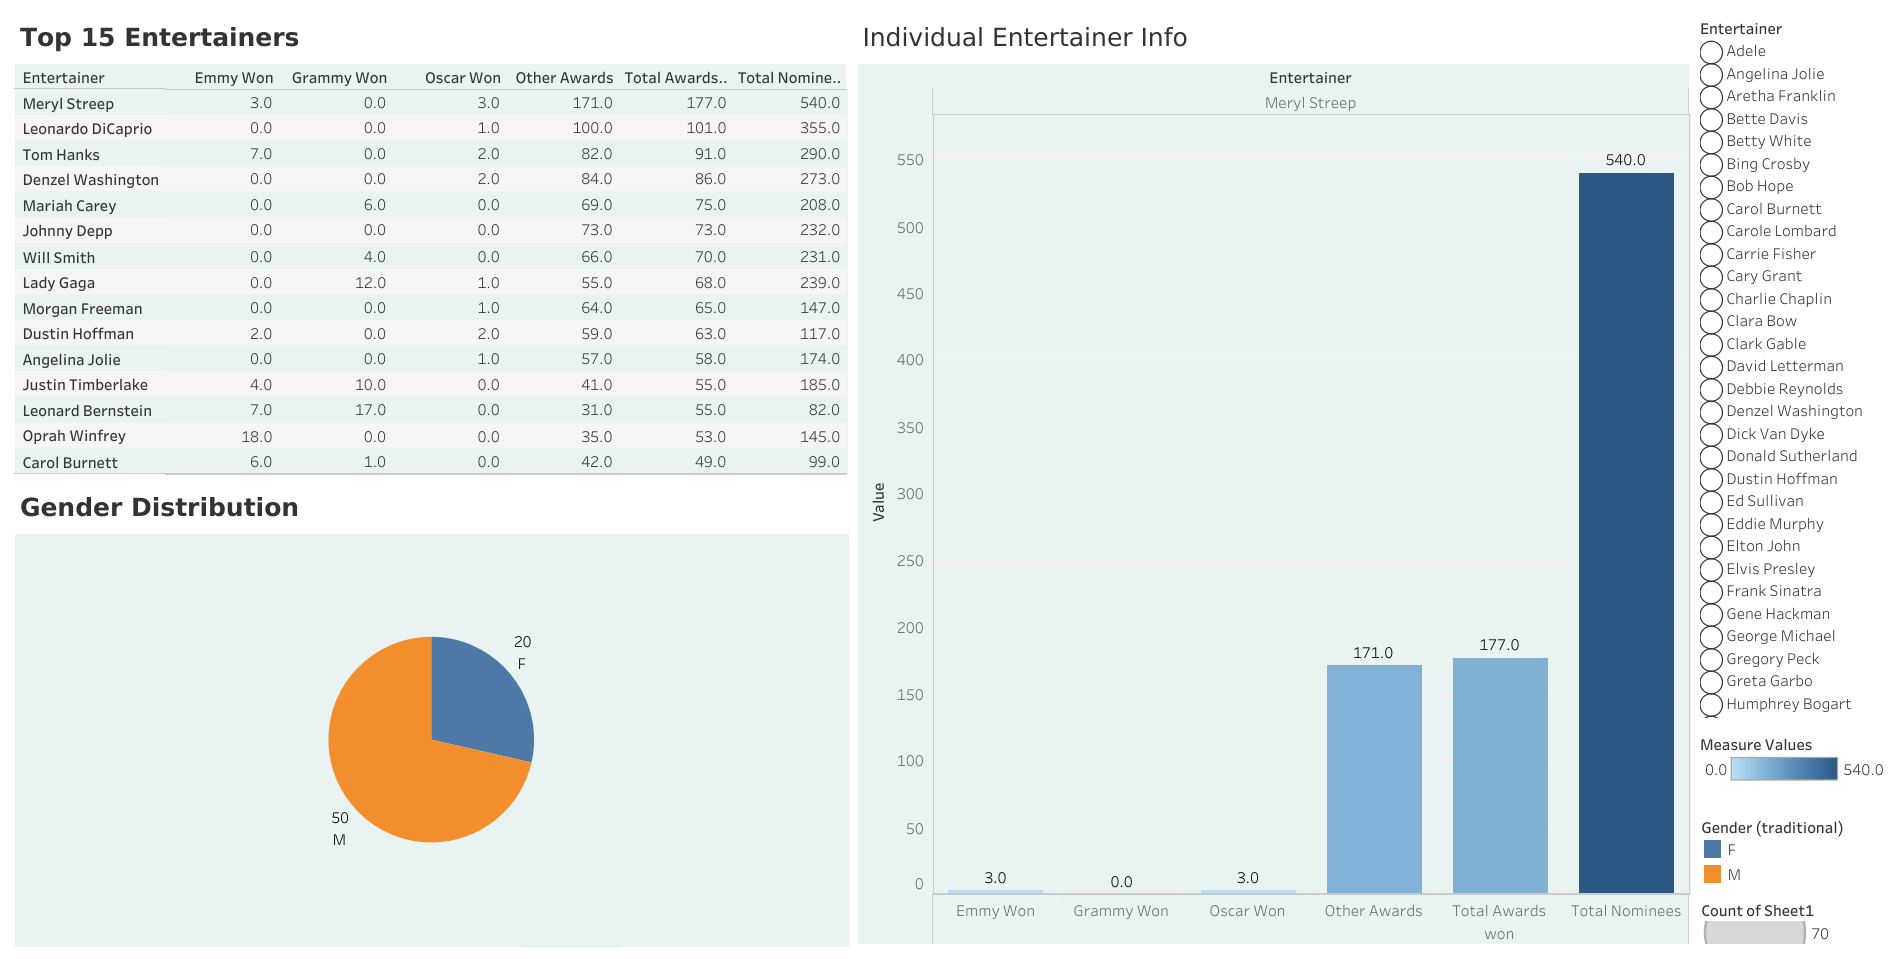

What the dashboard file says about the page in this screenshot:
{"tool":"tableau","page":{"name":"Dashboard 4","canvas":[1524,768],"ordinal":3},"visuals":[{"type":"worksheet","title":"Top 15 Entertainers","mark":"Automatic","rows":["Entertainer"],"box":[8,8,674,376]},{"type":"worksheet","title":"Individual Entertainer Info","mark":"Automatic","cols":["Entertainer"],"box":[682,8,674,752]},{"type":"filter","title":"Individual Entertainer Info","param":"[federated.00bymi516ipdjf1fy40e70tkaaqx].[none:Entertainer:nk]","box":[1356,8,160,556]},{"type":"worksheet","title":"Gender Distribution","mark":"Pie","box":[8,384,674,376]},{"type":"legend","title":"Individual Entertainer Info","param":"[federated.00bymi516ipdjf1fy40e70tkaaqx].[Multiple Values]","box":[1356,564,160,73]},{"type":"legend","title":"Gender Distribution","param":"[federated.00bymi516ipdjf1fy40e70tkaaqx].[none:Gender (traditional):nk]","box":[1356,637,160,72]},{"type":"legend","title":"Gender Distribution","param":"[federated.00bymi516ipdjf1fy40e70tkaaqx].[__tableau_internal_object_id__].[cnt:S","box":[1356,709,160,51]}]}

Visuals, with their boxes in screenshot pixels (x1, y1, x2, y2), scaled from the page's 1524x768 canvas onto the 1904x959 screenshot:
"Top 15 Entertainers" worksheet: 10:10:852:480
"Individual Entertainer Info" worksheet: 852:10:1694:949
"Individual Entertainer Info" filter: 1694:10:1894:704
"Gender Distribution" worksheet (Pie marks): 10:480:852:949
"Individual Entertainer Info" legend: 1694:704:1894:795
"Gender Distribution" legend: 1694:795:1894:885
"Gender Distribution" legend: 1694:885:1894:949
